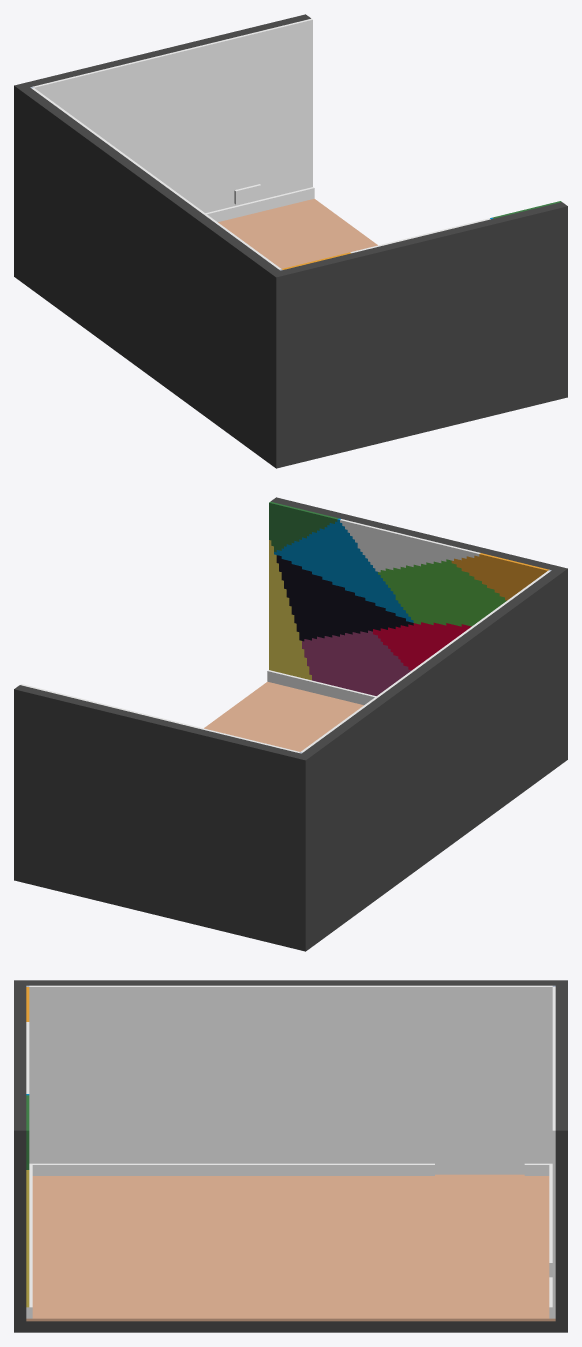
File: Room v3.0-0-Room.obj
3 renders of one model, top to bottom at view 1: azimuth 30°, elevation 25°; view 2: azimuth 150°, elevation 25°; view 3: azimuth 270°, elevation 25°, orthographic. The views are drawn at different scales.
Parts seen in each view (by area): view 1: Room; view 2: Room; view 3: Room.
Part boxes in pixels (box(x1,y1,x2,y2)): Room: box(14, 14, 567, 468); Room: box(14, 497, 567, 951); Room: box(14, 980, 567, 1332).
Size of the model in its own units: 11.5 by 7.2 by 17.9.
1 material, 1 textured.
